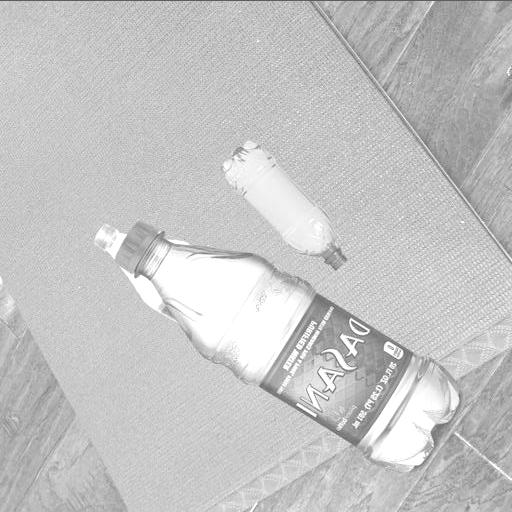bottle: (114, 219, 464, 481), (219, 133, 349, 272), (88, 218, 174, 326)
